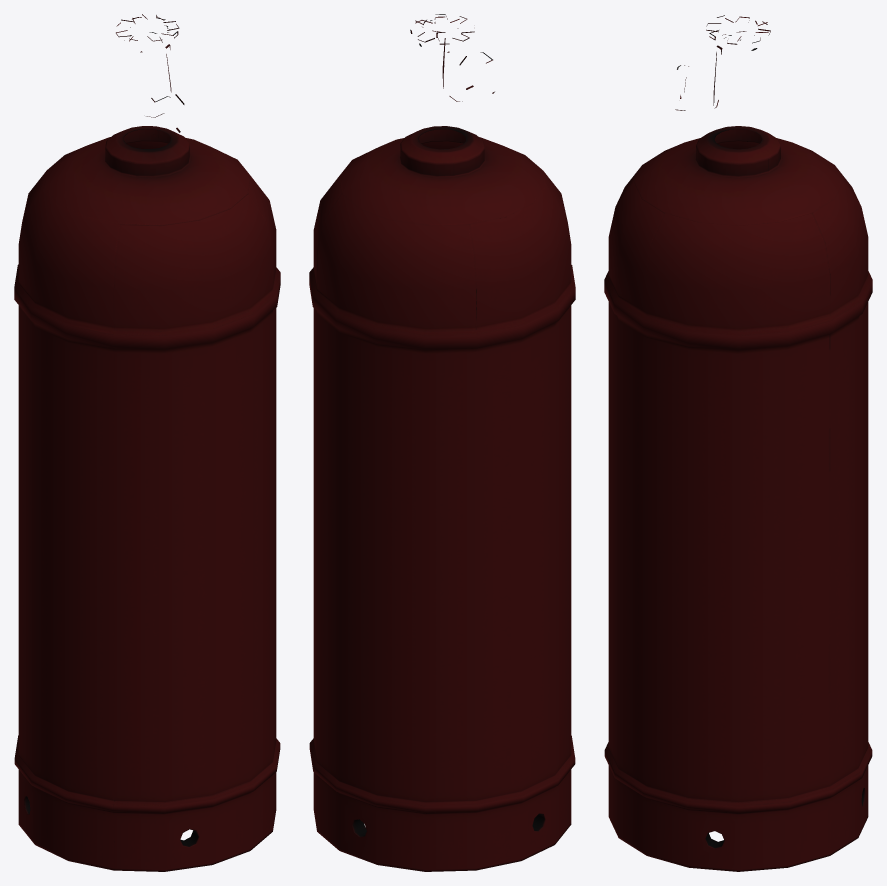
The model's file is balon.obj.
The picture shows the model from 3 angles, left to right: view 1: azimuth 30°, elevation 25°; view 2: azimuth 150°, elevation 25°; view 3: azimuth 270°, elevation 25°; orthographic projection.
Visible parts, largest first — view 1: Cylinder; view 2: Cylinder; view 3: Cylinder.
Part boxes in pixels (x1,y1,x2,y2): Cylinder: (14, 14, 280, 871); Cylinder: (309, 14, 575, 871); Cylinder: (604, 15, 872, 871).
Size of the model in its own units: 2.07 by 6.74 by 2.07.
Materials: 1 (1 with a texture image).
